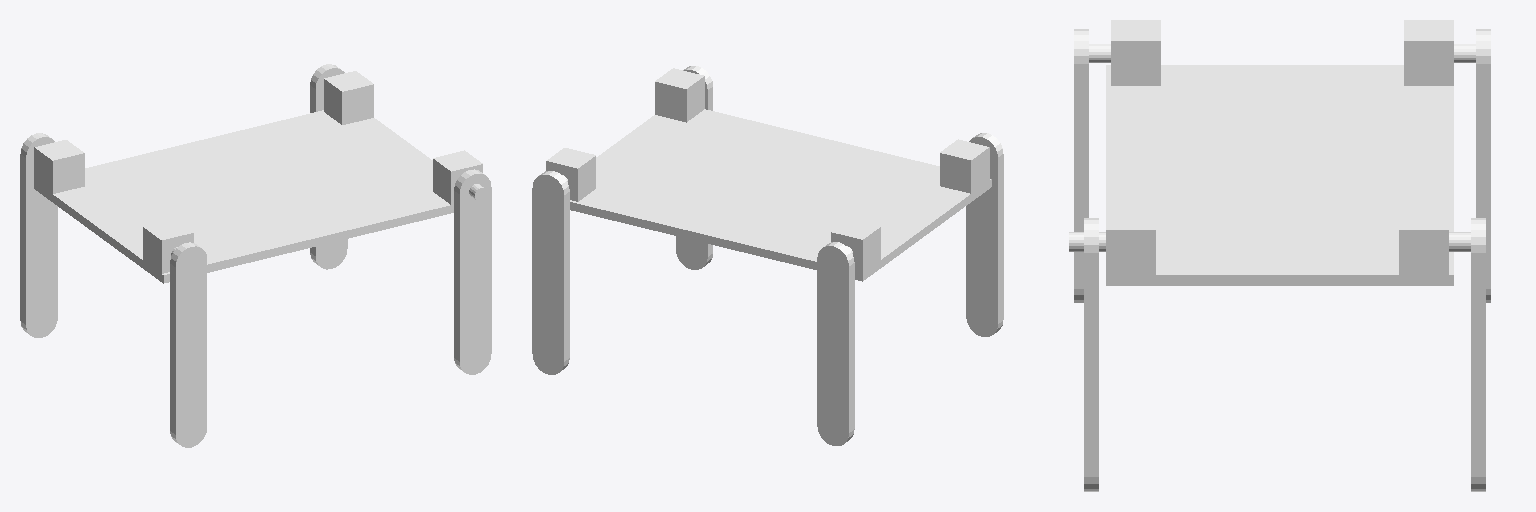
robot.urdf — scout:
<robot
  name="scout" xmlns:xacro="http://www.ros.org/wiki/xacro">
  <gazebo>
    <plugin name="gazebo_ros_control" filename="libgazebo_ros_control.so">
      <robotNamespace>/scout</robotNamespace>
      <robotSimType>gazebo_ros_control/DefaultRobotHWSim</robotSimType>
    </plugin>
  </gazebo>
  <link
    name="base_link">
    <inertial>
      <origin
        xyz="0.083033 -0.15433 0.10443"
        rpy="0 0 0" />
      <mass
        value="4.44358" />
      <inertia
        ixx="0.00132422325"
        ixy="0"
        ixz="2.480178E-05"
        iyy="0.00409972562"
        iyz="0"
        izz="0.0028257977" />
    </inertial>
    <visual>
      <origin
        xyz="0 0 0"
        rpy="0 0 0" />
      <geometry>
        <mesh
          filename="package://scout/meshes/base_link.STL" />
      </geometry>
      <material
        name="">
        <color
          rgba="1 1 1 0.3" />
      </material>
    </visual>
    <collision>
      <origin
        xyz="0 0 0"
        rpy="0 0 0" />
      <geometry>
        <mesh
          filename="package://scout/meshes/base_link.STL" />
      </geometry>
    </collision>
  </link>
  <link
    name="leg1">
    <inertial>
      <origin
        xyz="-0.05111 2.7756E-17 0.003"
        rpy="0 0 0" />
      <mass
        value="0.0163" />
      <inertia
        ixx="5.84E-07"
        ixy="0"
        ixz="0"
        iyy="1.7794E-05"
        iyz="0"
        izz="1.828E-05" />
    </inertial>
    <visual>
      <origin
        xyz="0 0 0"
        rpy="0 0 0" />
      <geometry>
        <mesh
          filename="package://scout/meshes/leg1.STL" />
      </geometry>
      <material
        name="">
        <color
          rgba="1 1 1 0.3" />
      </material>
    </visual>
    <collision>
      <origin
        xyz="0 0 0"
        rpy="0 0 0" />
      <geometry>
        <mesh
          filename="package://scout/meshes/leg1.STL" />
      </geometry>
    </collision>
  </link>
  <joint
    name="joint1"
    type="continuous">
    <origin
      xyz="0.17303 -0.071332 0.10916"
      rpy="1.5708 -1.5708 0" />
    <parent
      link="base_link" />
    <child
      link="leg1" />
    <axis
      xyz="0 0 1" />
    <dynamics friction="0.5" />
    <mu1 value="0.7" />
    <mu2 value="0.7" />
  </joint>
  <link
    name="leg2">
    <inertial>
      <origin
        xyz="-0.05111 -2.2551E-17 0.003"
        rpy="0 0 0" />
      <mass
        value="0.0163" />
      <inertia
        ixx="5.84E-07"
        ixy="0"
        ixz="0"
        iyy="1.7794E-05"
        iyz="0"
        izz="1.828E-05" />
    </inertial>
    <visual>
      <origin
        xyz="0 0 0"
        rpy="0 0 0" />
      <geometry>
        <mesh
          filename="package://scout/meshes/leg2.STL" />
      </geometry>
      <material
        name="">
        <color
          rgba="1 1 1 0.3" />
      </material>
    </visual>
    <collision>
      <origin
        xyz="0 0 0"
        rpy="0 0 0" />
      <geometry>
        <mesh
          filename="package://scout/meshes/leg2.STL" />
      </geometry>
    </collision>
  </link>
  <joint
    name="joint2"
    type="continuous">
    <origin
      xyz="-0.0069671 -0.069332 0.10916"
      rpy="1.5708 -1.5708 0" />
    <parent
      link="base_link" />
    <child
      link="leg2" />
    <axis
      xyz="0 0 1" />
    <dynamics friction="0.50" />
    <mu1 value="0.7" />
    <mu2 value="0.7" />
  </joint>
  <link
    name="leg3">
    <inertial>
      <origin
        xyz="-0.05111 0 -0.003"
        rpy="0 0 0" />
      <mass
        value="0.0163" />
      <inertia
        ixx="5.84E-07"
        ixy="0"
        ixz="0"
        iyy="1.7794E-05"
        iyz="0"
        izz="1.828E-05" />
    </inertial>
    <visual>
      <origin
        xyz="0 0 0"
        rpy="0 0 0" />
      <geometry>
        <mesh
          filename="package://scout/meshes/leg3.STL" />
      </geometry>
      <material
        name="">
        <color
          rgba="1 1 1 0.3" />
      </material>
    </visual>
    <collision>
      <origin
        xyz="0 0 0"
        rpy="0 0 0" />
      <geometry>
        <mesh
          filename="package://scout/meshes/leg3.STL" />
      </geometry>
    </collision>
  </link>
  <joint
    name="joint3"
    type="continuous">
    <origin
      xyz="0.17303 -0.23333 0.10916"
      rpy="1.5708 -1.5708 0" />
    <parent
      link="base_link" />
    <child
      link="leg3" />
    <axis
      xyz="0 0 -1" />
    <dynamics friction="0.50"/>
    <mu1 value="0.7" />
    <mu2 value="0.7" />
  </joint>
  <link
    name="leg4">
    <inertial>
      <origin
        xyz="-0.05111 0 0.003"
        rpy="0 0 0" />
      <mass
        value="0.0163" />
      <inertia
        ixx="5.84E-07"
        ixy="0"
        ixz="0"
        iyy="1.7794E-05"
        iyz="0"
        izz="1.828E-05" />
    </inertial>
    <visual>
      <origin
        xyz="0 0 0"
        rpy="0 0 0" />
      <geometry>
        <mesh
          filename="package://scout/meshes/leg4.STL" />
      </geometry>
      <material
        name="">
        <color
          rgba="1 1 1 0.3" />
      </material>
    </visual>
    <collision>
      <origin
        xyz="0 0 0"
        rpy="0 0 0" />
      <geometry>
        <mesh
          filename="package://scout/meshes/leg4.STL" />
      </geometry>
    </collision>
  </link>
  <joint
    name="joint4"
    type="continuous">
    <origin
      xyz="-0.0069671 -0.23133 0.10916"
      rpy="1.5708 -1.5708 0" />
    <parent
      link="base_link" />
    <child
      link="leg4" />
    <axis
      xyz="0 0 1" />
    <dynamics friction="0.50" />
    <mu1 value="0.7" />
    <mu2 value="0.7" />
  </joint>
  <gazebo>
    <plugin name="object_controller" filename="libgazebo_ros_planar_move.so">
      <commandTopic>/scout/cmd_vel</commandTopic>
      <odometryTopic>odom</odometryTopic>
      <odometryFrame>odom</odometryFrame>
      <odometryRate>20.0</odometryRate>
      <robotBaseFrame>base_link</robotBaseFrame>
    </plugin>
  </gazebo>
  <transmission name="trans1">
    <type>transmission_interface/SimpleTransmission</type>
    <joint name="joint1">
      <hardwareInterface>EffortJointInterface</hardwareInterface>
    </joint>
    <actuator name="motor1">
      <hardwareInterface>EffortJointInterface</hardwareInterface>
      <mechanicalReduction>1</mechanicalReduction>
    </actuator>
  </transmission>
  <transmission name="trans2">
    <type>transmission_interface/SimpleTransmission</type>
    <joint name="joint2">
      <hardwareInterface>EffortJointInterface</hardwareInterface>
    </joint>
    <actuator name="motor2">
      <hardwareInterface>EffortJointInterface</hardwareInterface>
      <mechanicalReduction>1</mechanicalReduction>
    </actuator>
  </transmission>
  <transmission name="trans3">
    <type>transmission_interface/SimpleTransmission</type>
    <joint name="joint3">
      <hardwareInterface>EffortJointInterface</hardwareInterface>
    </joint>
    <actuator name="motor3">
      <hardwareInterface>EffortJointInterface</hardwareInterface>
      <mechanicalReduction>1</mechanicalReduction>
    </actuator>
  </transmission>
  <transmission name="trans4">
    <type>transmission_interface/SimpleTransmission</type>
    <joint name="joint4">
      <hardwareInterface>EffortJointInterface</hardwareInterface>
    </joint>
    <actuator name="motor4">
      <hardwareInterface>EffortJointInterface</hardwareInterface>
      <mechanicalReduction>1</mechanicalReduction>
    </actuator>
  </transmission>
</robot>



--- What the picture shows (computed from the rendered views, not written in the file) ---
3 views of the same robot in one strip: view 1: azimuth 30°, elevation 25°; view 2: azimuth 150°, elevation 25°; view 3: azimuth 270°, elevation 25° (orthographic).
Model scout with 5 links and 4 joints (4 continuous), rooted at base_link, posed all joints at 0.
Visible links, largest first — view 1: base_link, leg3, leg4, leg2, leg1; view 2: base_link, leg2, leg1, leg4, leg3; view 3: base_link, leg1, leg3, leg4, leg2.
Boxes of the visible links, x1,y1,x2,y2 form: base_link: [34, 71, 486, 283]; leg3: [454, 169, 491, 374]; leg4: [170, 242, 206, 447]; leg2: [20, 133, 57, 337]; leg1: [310, 64, 347, 269]; base_link: [542, 68, 991, 281]; leg2: [817, 242, 854, 445]; leg1: [532, 171, 569, 374]; leg4: [966, 133, 1003, 336]; leg3: [676, 66, 712, 269]; base_link: [1069, 20, 1475, 285]; leg1: [1471, 218, 1485, 491]; leg3: [1084, 218, 1098, 491]; leg4: [1074, 29, 1088, 302]; leg2: [1476, 29, 1490, 302].
Bounding box of the posed robot: 0.2 × 0.17 × 0.12 m (x, y, z).
Meshes: 5 distinct files referenced, 5 mesh visuals loaded (5 binary STL).